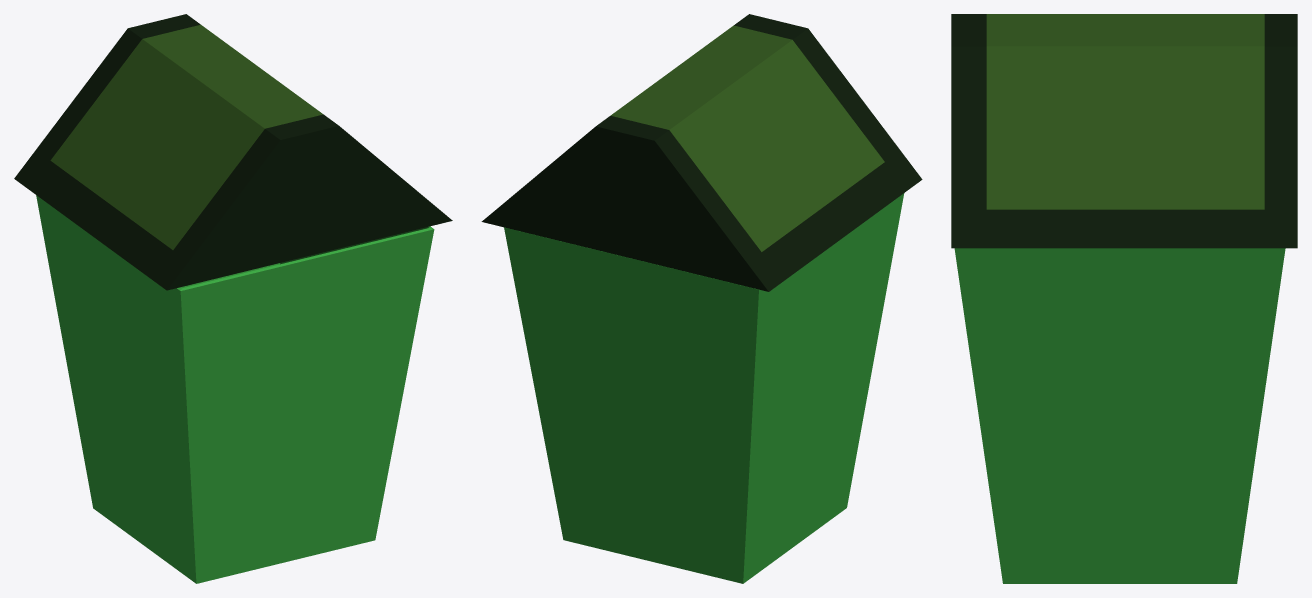
The model's file is tempat sampah.fbx.
3 views of the same model, side by side, from view 1: azimuth 30°, elevation 25°; view 2: azimuth 150°, elevation 25°; view 3: azimuth 270°, elevation 25° (orthographic). The views are drawn at different scales.
Parts seen in each view (by area): view 1: Plane, Plane.001; view 2: Plane, Plane.001; view 3: Plane, Plane.001.
Boxes of the visible parts, x1=… form: Plane: x1=36, y1=195, x2=434, y2=583; Plane.001: x1=14, y1=14, x2=452, y2=290; Plane: x1=504, y1=193, x2=904, y2=583; Plane.001: x1=481, y1=14, x2=922, y2=291; Plane: x1=954, y1=248, x2=1285, y2=583; Plane.001: x1=951, y1=14, x2=1297, y2=248.
Bounding box in the file's own units: 472 × 702 × 436.
